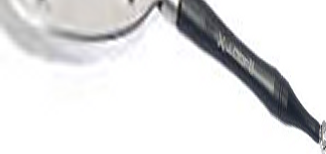wrench: (3, 1, 326, 150)
